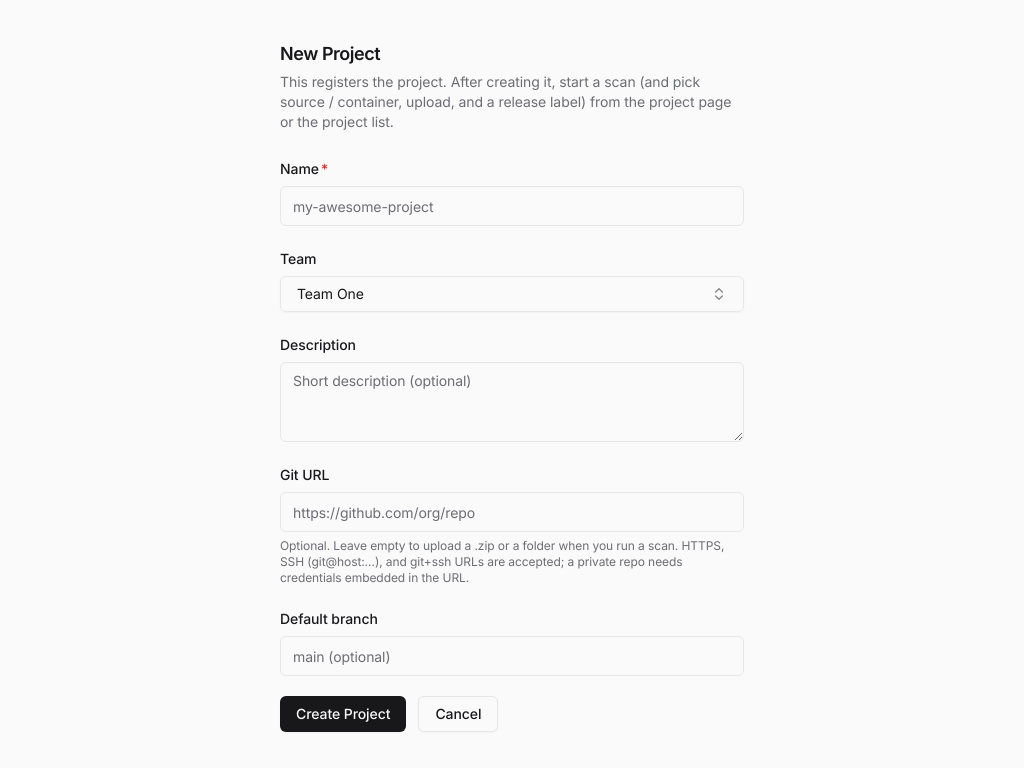
Scenario: ProjectCreatePage › shows an empty state when a search matches nothing
The width and height of the screenshot is (1024, 768).
Click the dropdown with test id "project-team-combobox-trigger": (330, 294) [280,276,744,312]
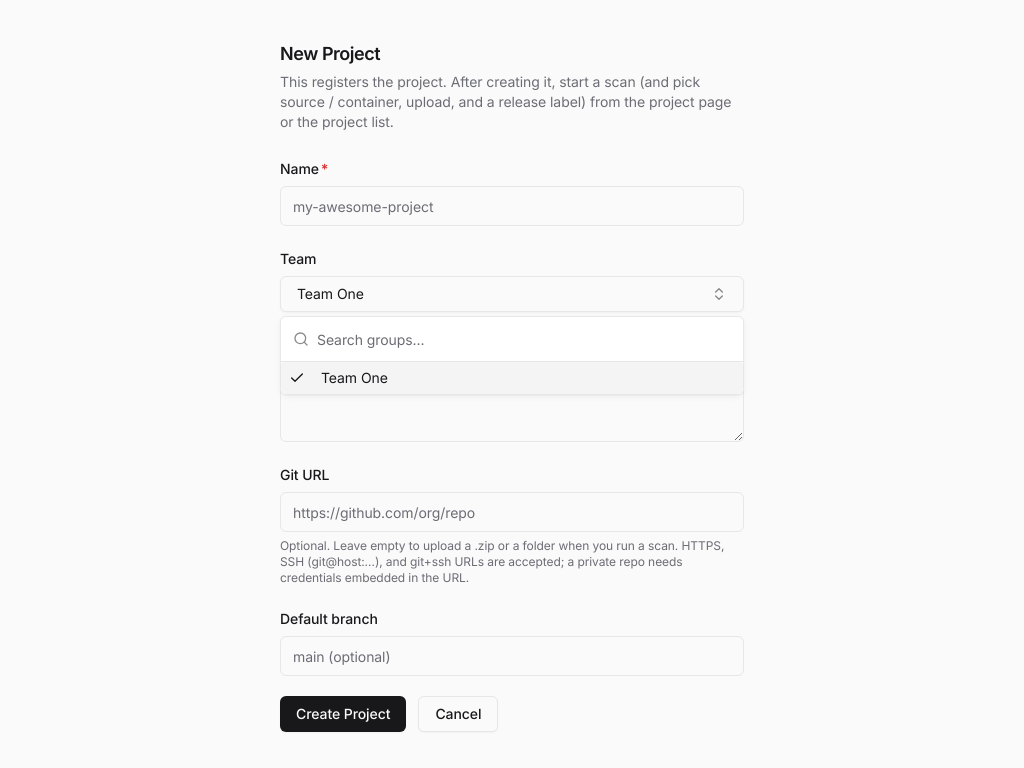
In the dropdown with test id "project-team-combobox-search": (524, 339) [317,317,731,361], type "nonexistent"
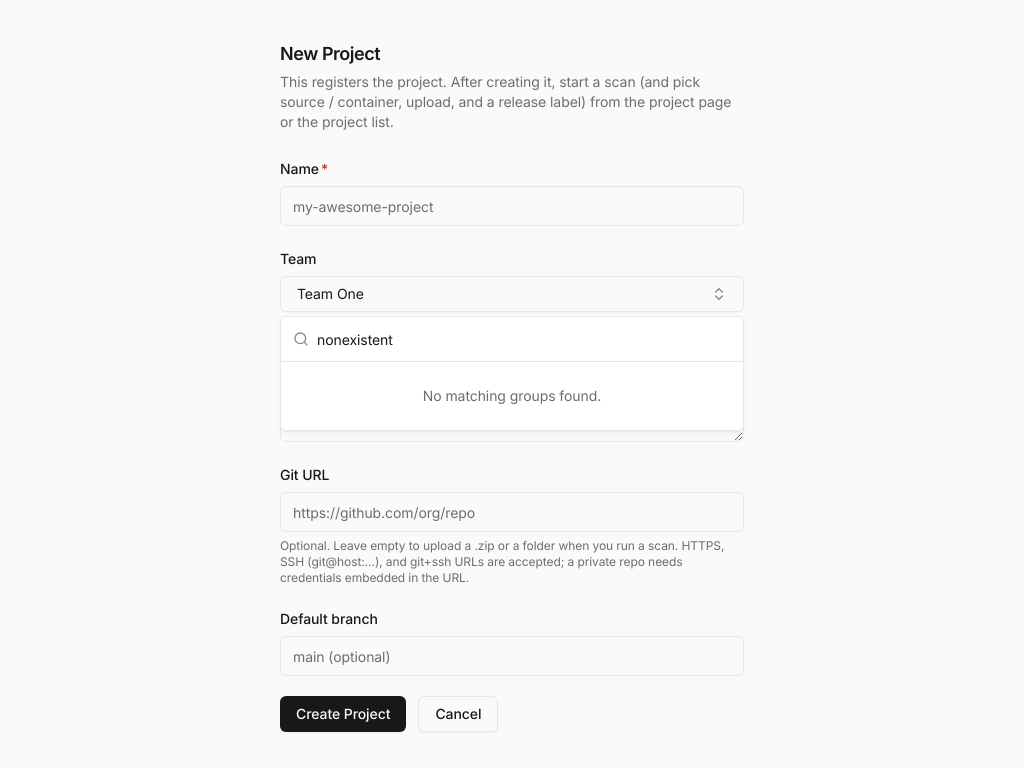
expect the text "No matching groups found." is shown: met, box [423,387,601,404]
